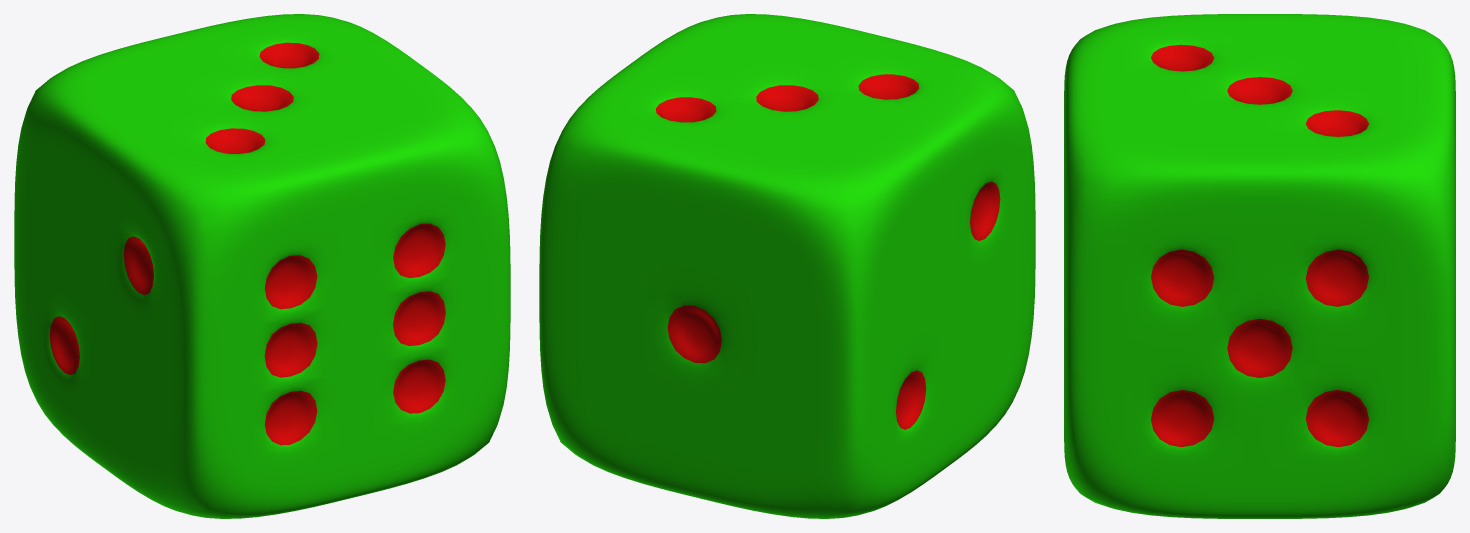
File: 2N_Dado.fbx
3 views of the same model, side by side, from view 1: azimuth 30°, elevation 25°; view 2: azimuth 150°, elevation 25°; view 3: azimuth 270°, elevation 25° (orthographic). The views are drawn at different scales.
Parts seen in each view (by area): view 1: Box001; view 2: Box001; view 3: Box001.
Part boxes in pixels (<box>): Box001: <box>14,14,510,518</box>; Box001: <box>539,14,1035,518</box>; Box001: <box>1064,14,1455,518</box>.
Size of the model in its own units: 10.37 by 10.37 by 10.37.
